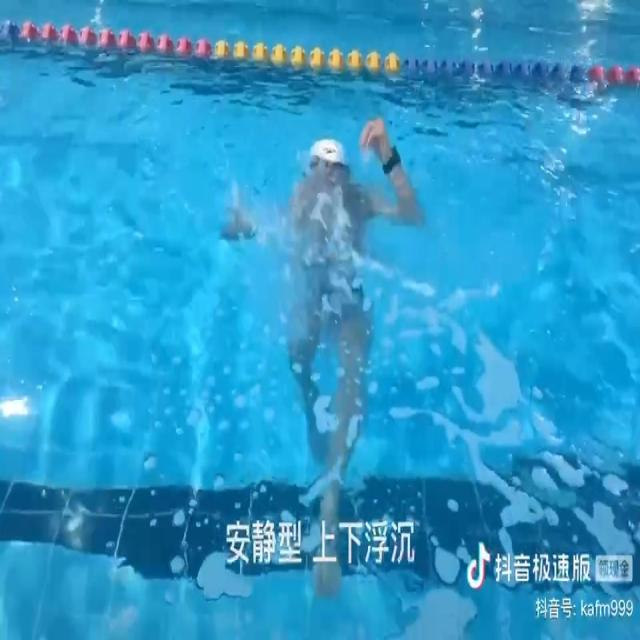Drowning: (224, 116, 425, 517)
